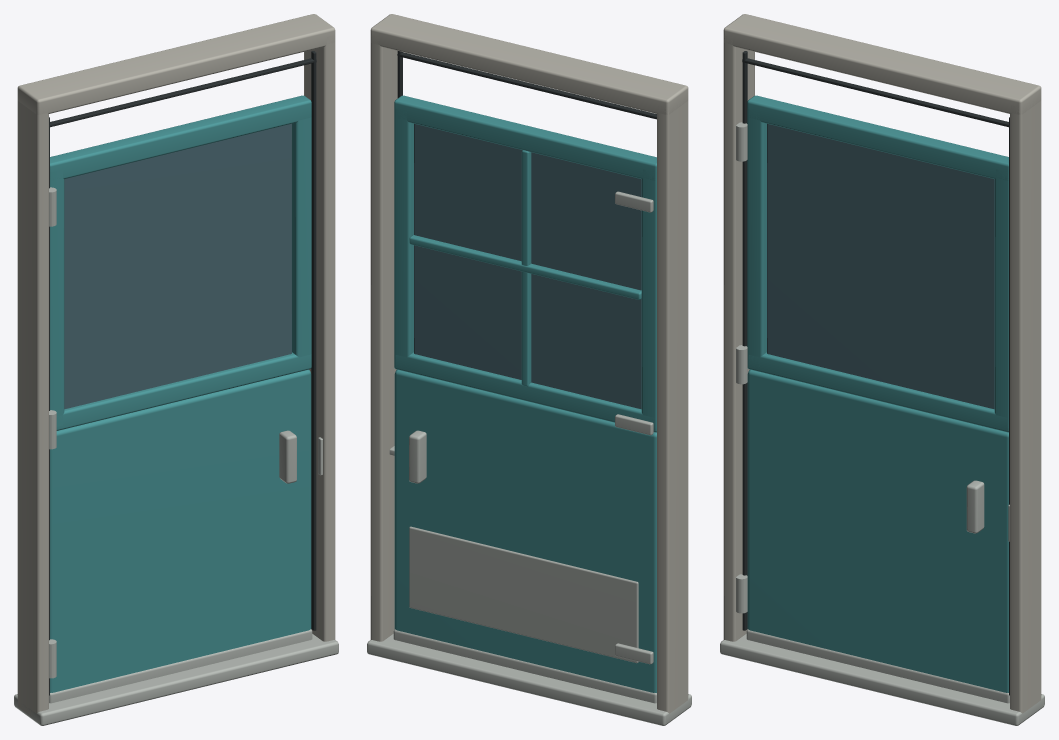
Rendered from A122_repair_shop_public_door.glb.
3 views of the same model, side by side, from view 1: azimuth 30°, elevation 25°; view 2: azimuth 150°, elevation 25°; view 3: azimuth 330°, elevation 25° (orthographic).
Visible parts, largest first — view 1: Door lower panel, Door smoked glass, Fixed left frame, Fixed right frame, Fixed head frame, Door top rail, Fixed threshold, Door middle rail, Door right stile, Door left stile, Inner rubber seal right, Door bottom shoe (+2 smaller); view 2: Door lower panel, Door smoked glass, Fixed left frame, Door lower kick plate, Fixed right frame, Fixed head frame, Door top rail, Fixed threshold, Door middle rail, Door right stile, Door left stile, Door bottom shoe (+7 smaller); view 3: Door lower panel, Door smoked glass, Fixed right frame, Fixed left frame, Fixed head frame, Door top rail, Fixed threshold, Door middle rail, Door left stile, Door right stile, Door bottom shoe, Inner rubber seal left (+3 smaller).
Part boxes in pixels (<box>): Door lower panel: <box>50,369,311,692</box>; Door smoked glass: <box>64,123,291,409</box>; Fixed left frame: <box>17,101,48,717</box>; Fixed right frame: <box>304,35,335,641</box>; Fixed head frame: <box>17,14,335,114</box>; Door top rail: <box>50,95,311,180</box>; Fixed threshold: <box>14,634,338,725</box>; Door middle rail: <box>56,352,311,430</box>; Door right stile: <box>292,117,311,357</box>; Door left stile: <box>50,169,64,426</box>; Inner rubber seal right: <box>311,51,316,630</box>; Door bottom shoe: <box>49,629,312,703</box>; Door lower panel: <box>394,369,656,692</box>; Door smoked glass: <box>414,123,641,409</box>; Fixed left frame: <box>657,98,688,713</box>; Door lower kick plate: <box>409,526,638,663</box>; Fixed right frame: <box>370,35,397,641</box>; Fixed head frame: <box>370,14,688,114</box>; Door top rail: <box>394,95,656,180</box>; Fixed threshold: <box>367,634,691,725</box>; Door middle rail: <box>394,352,656,432</box>; Door right stile: <box>394,108,413,366</box>; Door left stile: <box>641,169,656,428</box>; Door bottom shoe: <box>393,629,656,703</box>; Door lower panel: <box>747,369,1008,692</box>; Door smoked glass: <box>767,123,994,409</box>; Fixed right frame: <box>1010,98,1041,713</box>; Fixed left frame: <box>723,35,754,641</box>; Fixed head frame: <box>723,14,1041,114</box>; Door top rail: <box>747,95,1008,180</box>; Fixed threshold: <box>720,634,1044,725</box>; Door middle rail: <box>747,352,1008,432</box>; Door left stile: <box>747,108,766,367</box>; Door right stile: <box>994,169,1008,428</box>; Door bottom shoe: <box>746,629,1009,703</box>; Inner rubber seal left: <box>742,51,747,630</box>.
Bounding box in the file's own units: 1.46 × 2.92 × 0.24.
